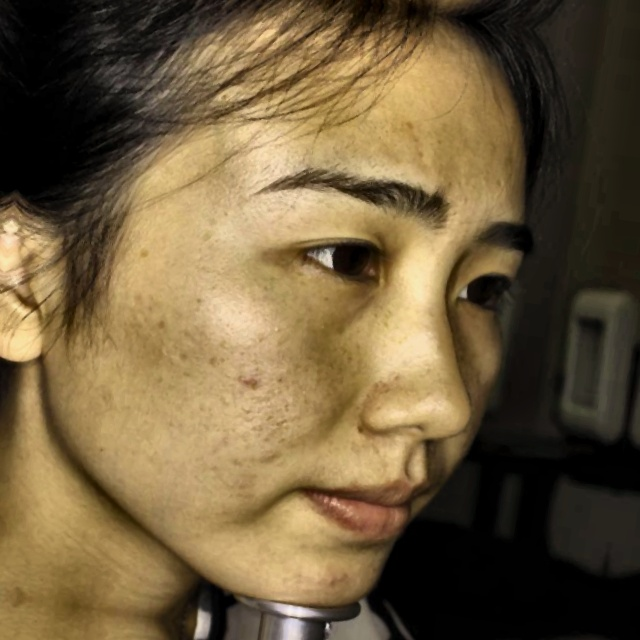comedone: (320, 568, 349, 597), (241, 367, 264, 402)
